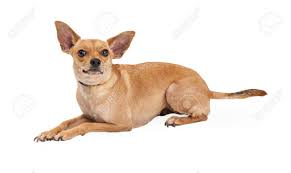chihuahua: (29, 14, 275, 140)
